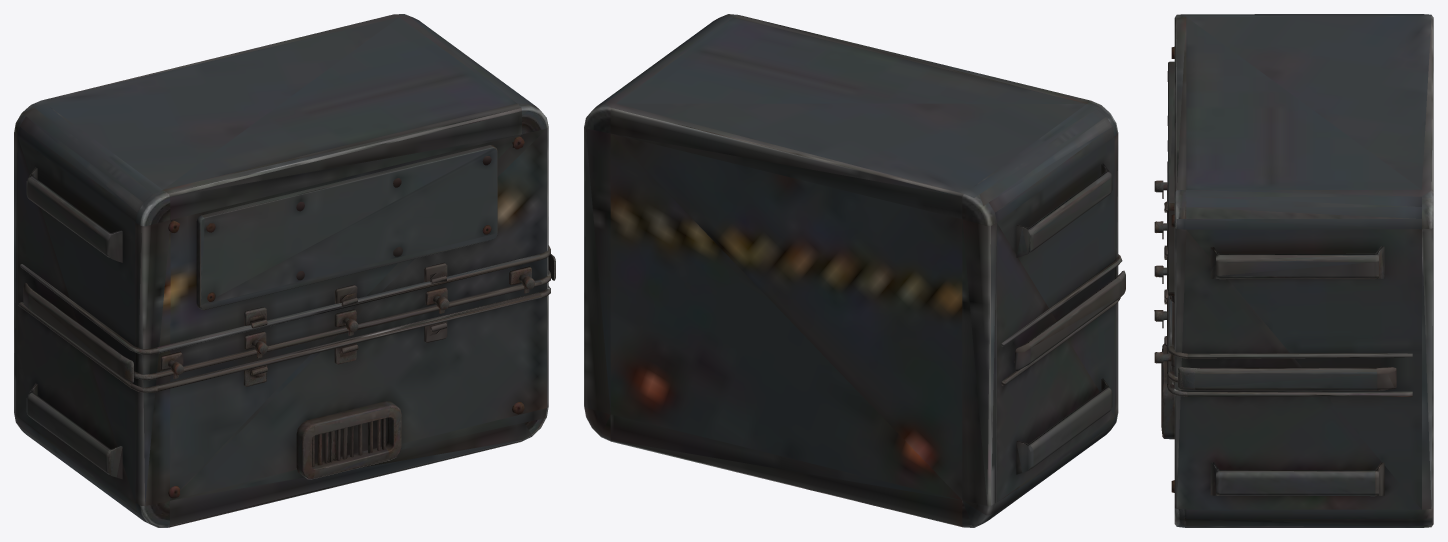
3 renders of one model, left to right at view 1: azimuth 30°, elevation 25°; view 2: azimuth 150°, elevation 25°; view 3: azimuth 270°, elevation 25°, orthographic.
Size of the model in its own units: 1 by 0.7357 by 0.5544.
1 material, 1 textured.
